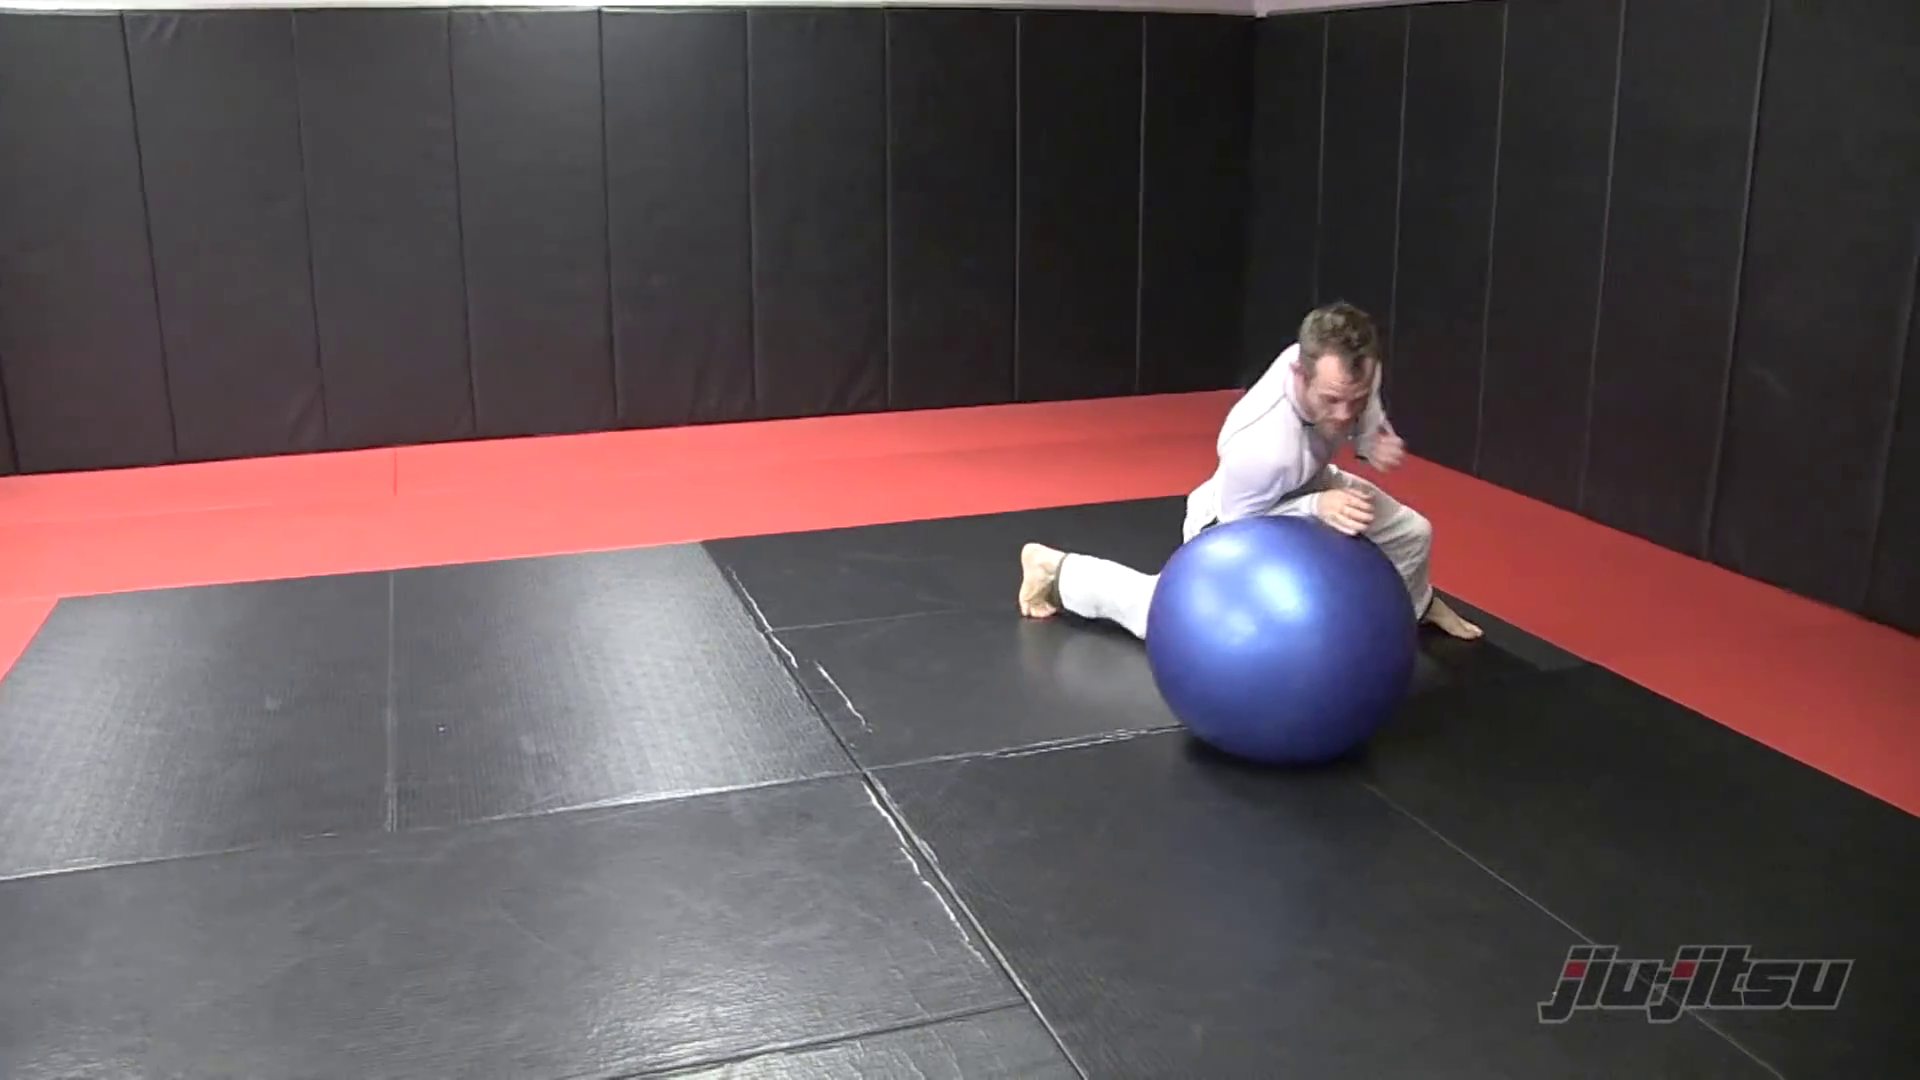yogaball: (1133, 508, 1429, 781)
